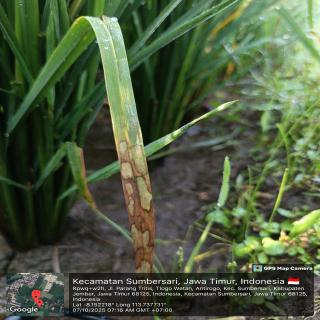Blast: (120, 162, 154, 213), (114, 137, 149, 177), (131, 222, 154, 256), (122, 183, 136, 217)
